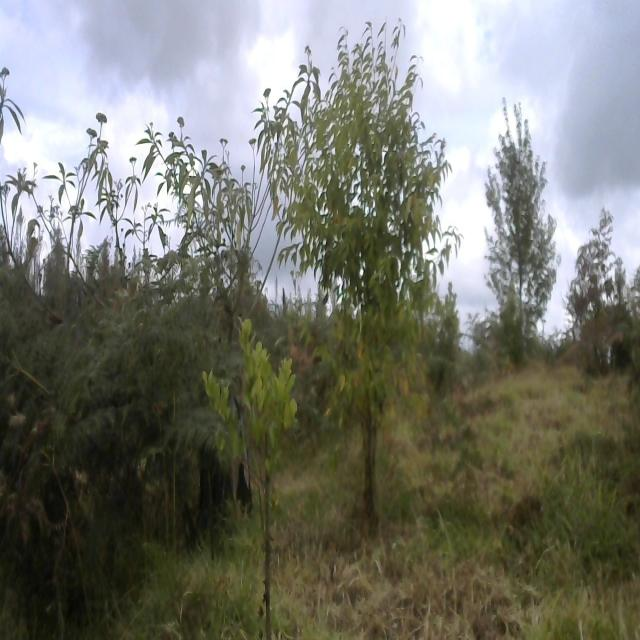Lemon Myrtle: (261, 4, 468, 528)
